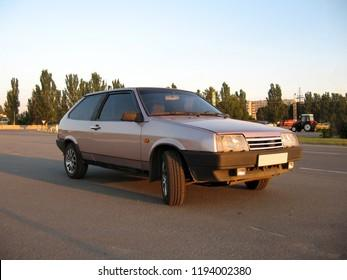windshield: (135, 89, 233, 121)
